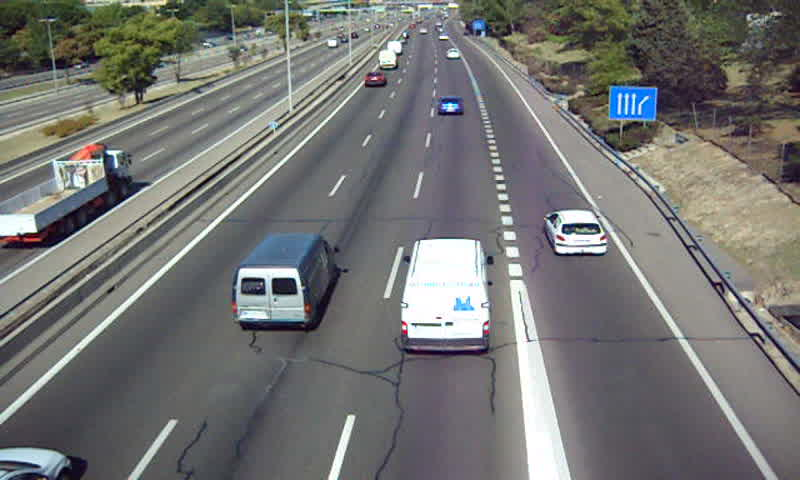car: (543, 208, 608, 258), (436, 96, 466, 115), (364, 70, 387, 87)
van: (401, 239, 491, 353), (233, 233, 336, 325), (378, 50, 398, 69)
